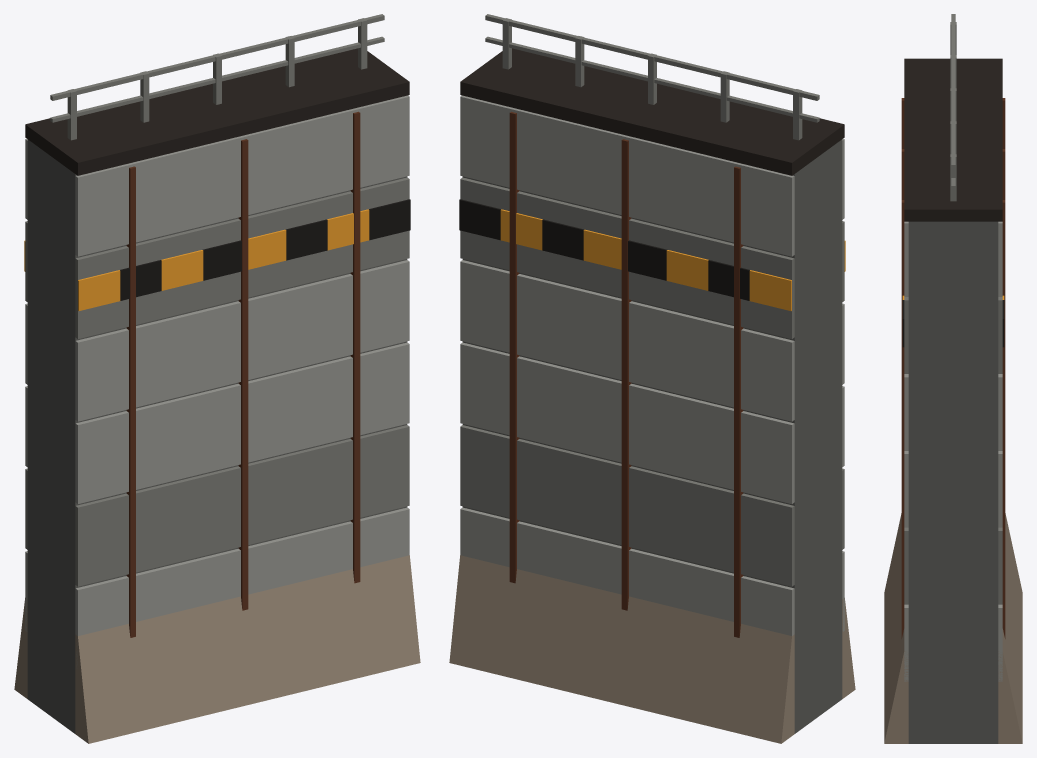
The model's file is fort_outpost_wall.glb.
3 views of the same model, side by side, from view 1: azimuth 30°, elevation 25°; view 2: azimuth 150°, elevation 25°; view 3: azimuth 270°, elevation 25° (orthographic). The views are drawn at different scales.
Visible parts, largest first — view 1: fort_outpost_wall; view 2: fort_outpost_wall; view 3: fort_outpost_wall.
Part boxes in pixels (x1,y1,x2,y2): fort_outpost_wall: (14, 14, 420, 743); fort_outpost_wall: (449, 14, 855, 743); fort_outpost_wall: (884, 14, 1022, 743).
Bounding box in the file's own units: 8 × 14.3 × 3.1.
